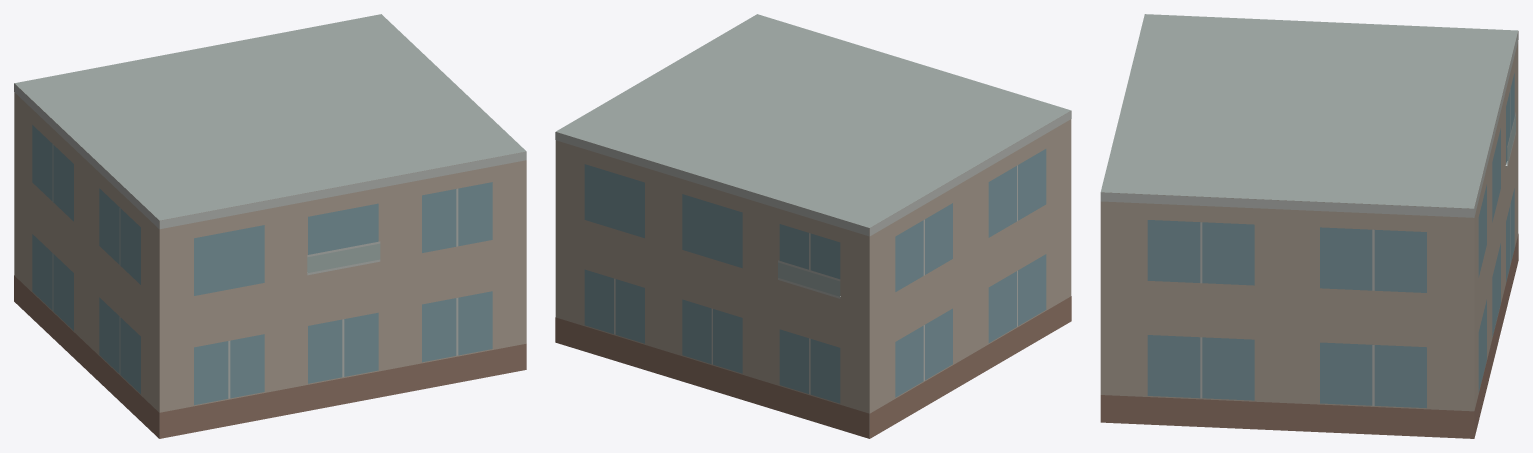
Rendered from survey-upis-32498970.glb.
3 renders of one model, left to right at view 1: azimuth 30°, elevation 25°; view 2: azimuth 150°, elevation 25°; view 3: azimuth 270°, elevation 25°, orthographic. The views are drawn at different scales.
Parts seen in each view (by area): view 1: survey-upis-32498970.tmp; view 2: survey-upis-32498970.tmp; view 3: survey-upis-32498970.tmp.
Boxes of the visible parts, bbox=[...] form: survey-upis-32498970.tmp: bbox=[14, 14, 526, 438]; survey-upis-32498970.tmp: bbox=[555, 14, 1071, 438]; survey-upis-32498970.tmp: bbox=[1100, 14, 1518, 438].
Size of the model in its own units: 11.07 by 6.1 by 10.04.
